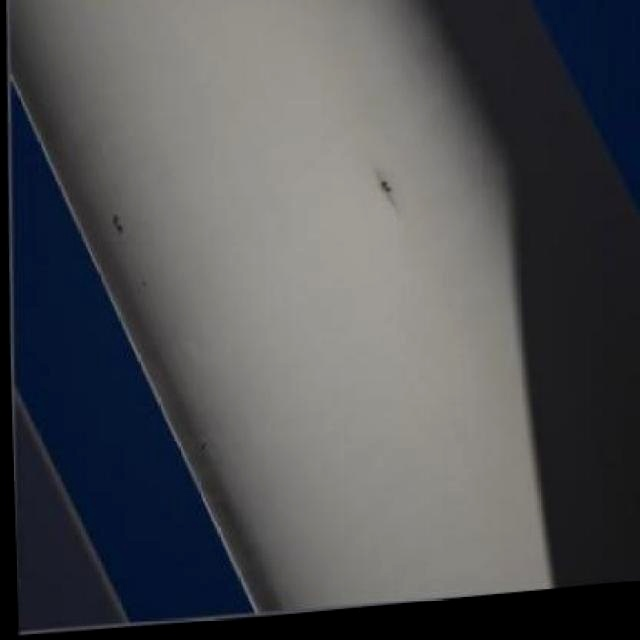Coating_defects: (103, 210, 126, 247)
Crack: (371, 167, 406, 225)
